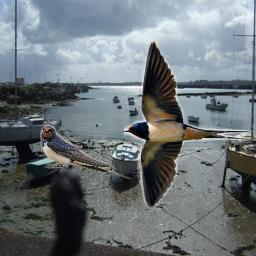Swallow: (124, 39, 252, 212), (40, 124, 132, 179)
